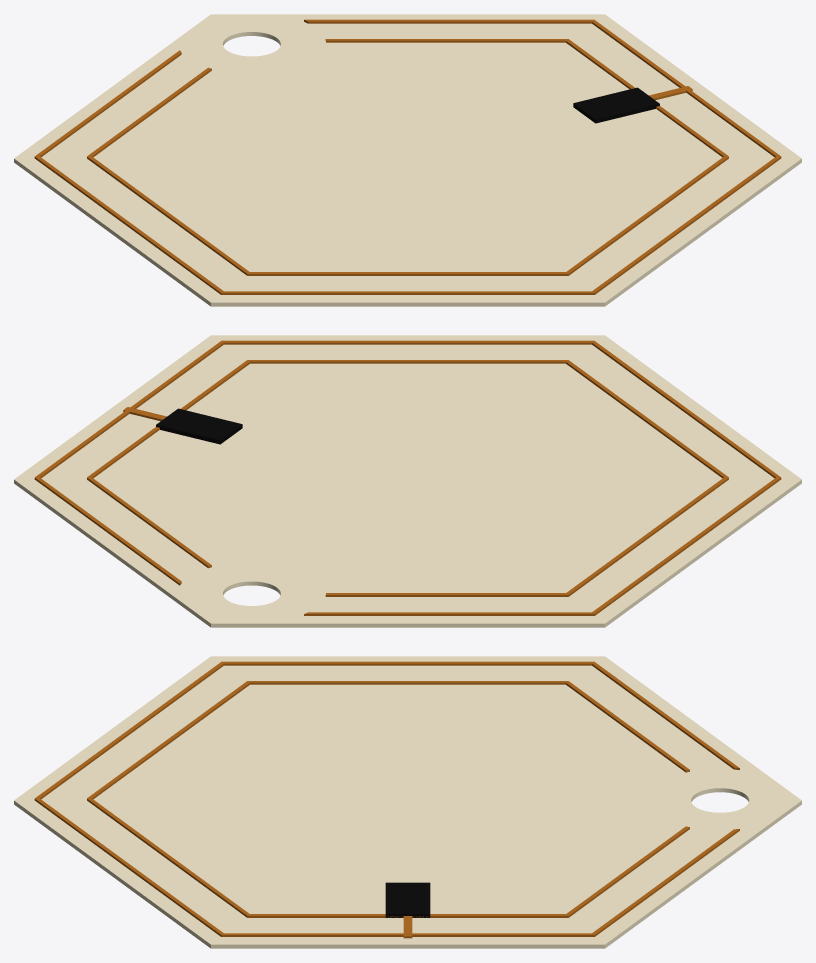
File: card-electronics.gltf
3 renders of one model, top to bottom at view 1: azimuth 30°, elevation 25°; view 2: azimuth 150°, elevation 25°; view 3: azimuth 270°, elevation 25°, orthographic.
Bounding box in the file's own units: 0.0459 × 0.0006 × 0.053.
